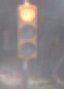Red: (12, 4, 40, 64)
